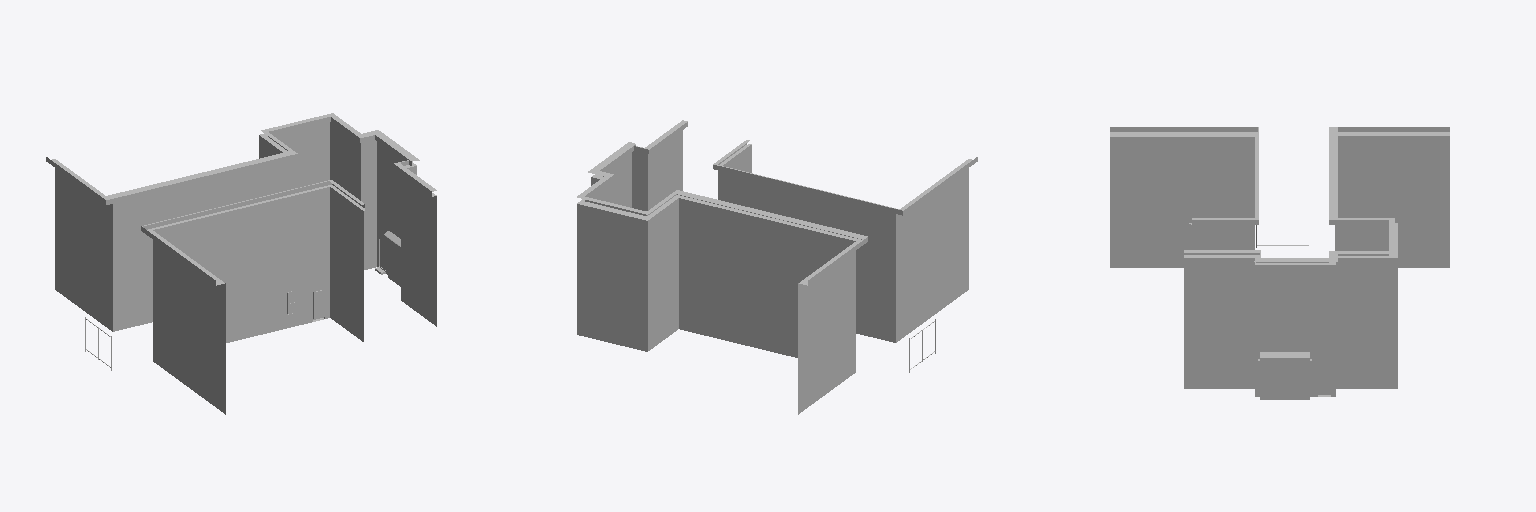
Rendered from AlleyWayOutofBounds.obj.
3 views of the same model, side by side, from view 1: azimuth 30°, elevation 25°; view 2: azimuth 150°, elevation 25°; view 3: azimuth 270°, elevation 25° (orthographic).
Parts seen in each view (by area): view 1: Cube.003_Cube.002; view 2: Cube.003_Cube.002; view 3: Cube.003_Cube.002.
Boxes of the visible parts, x1=… form: Cube.003_Cube.002: x1=46, y1=113, x2=436, y2=414; Cube.003_Cube.002: x1=577, y1=120, x2=977, y2=414; Cube.003_Cube.002: x1=1110, y1=127, x2=1449, y2=399.
Size of the model in its own units: 19.29 by 8.02 by 18.18.